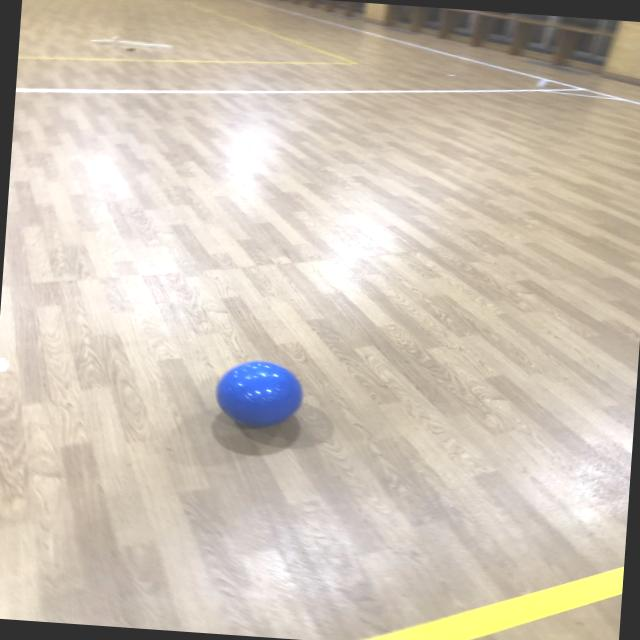blue_ball: (210, 356, 313, 434)
